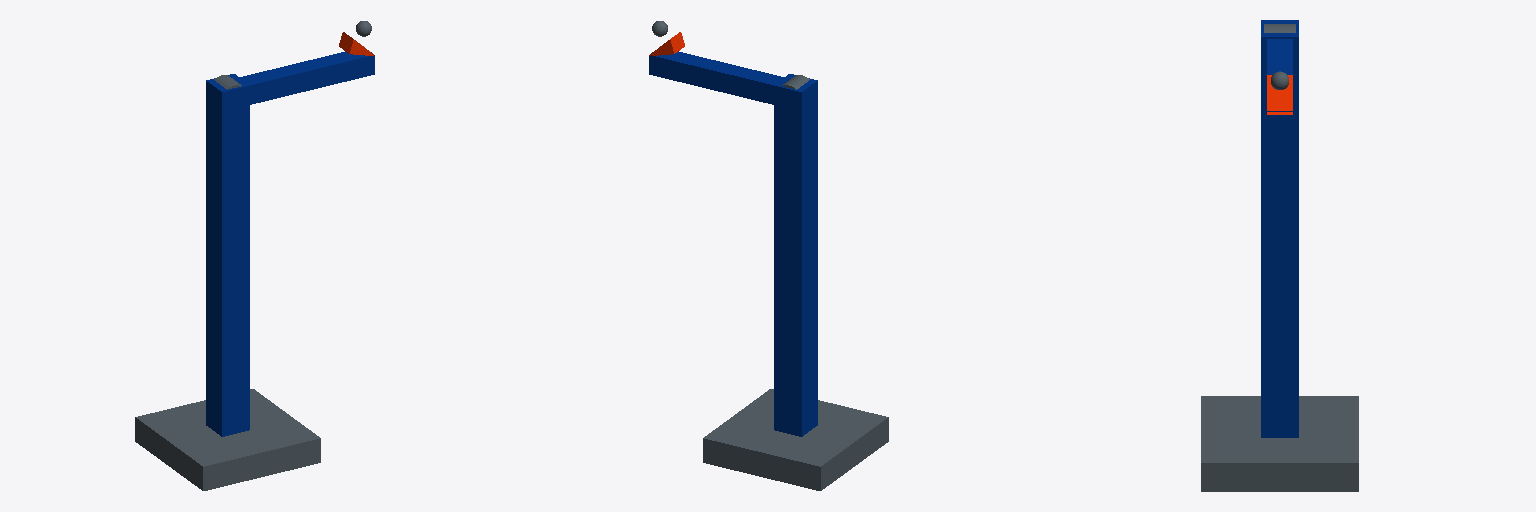
URDF robot description (lk_lift):
<?xml version="1.0"?>
<!--
  LK Lift Mast: deterministic URDF fixture for the importer toolchain.
  Exercises a prismatic joint, a revolute joint, a fixed joint that must be
  folded into its parent, primitive geometry, and a binary STL mesh.
-->
<robot name="lk_lift">
  <material name="lift-gray">
    <color rgba="0.36 0.4 0.43 1"/>
  </material>
  <material name="lift-blue">
    <color rgba="0.025 0.25 0.58 1"/>
  </material>
  <material name="lift-orange">
    <color rgba="0.94 0.24 0.035 1"/>
  </material>

  <link name="base_link">
    <visual>
      <origin xyz="0 0 0.05"/>
      <geometry>
        <box size="0.5 0.5 0.1"/>
      </geometry>
      <material name="lift-gray"/>
    </visual>
  </link>

  <link name="mast">
    <visual>
      <origin xyz="0 0 0.7"/>
      <geometry>
        <box size="0.12 0.12 1.4"/>
      </geometry>
      <material name="lift-blue"/>
    </visual>
  </link>

  <link name="boom">
    <visual>
      <origin xyz="0.3 0 0"/>
      <geometry>
        <box size="0.6 0.08 0.08"/>
      </geometry>
      <material name="lift-blue"/>
    </visual>
    <visual>
      <origin xyz="0 0 0" rpy="1.5707963267948966 0 0"/>
      <geometry>
        <cylinder radius="0.06" length="0.1"/>
      </geometry>
      <material name="lift-gray"/>
    </visual>
  </link>

  <link name="sensor">
    <visual>
      <origin xyz="-0.06 -0.04 0"/>
      <geometry>
        <mesh filename="bracket.stl"/>
      </geometry>
      <material name="lift-orange"/>
    </visual>
    <visual>
      <origin xyz="0 0 0.09"/>
      <geometry>
        <sphere radius="0.03"/>
      </geometry>
      <material name="lift-gray"/>
    </visual>
  </link>

  <joint name="lift_z" type="prismatic">
    <parent link="base_link"/>
    <child link="mast"/>
    <origin xyz="0 0 0.1"/>
    <axis xyz="0 0 1"/>
    <limit lower="0" upper="1.2" effort="100" velocity="0.5"/>
  </joint>

  <joint name="boom_yaw" type="revolute">
    <parent link="mast"/>
    <child link="boom"/>
    <origin xyz="0 0 1.35"/>
    <axis xyz="0 0 1"/>
    <limit lower="-1.7" upper="1.7" effort="60" velocity="1.5"/>
  </joint>

  <joint name="sensor_mount" type="fixed">
    <parent link="boom"/>
    <child link="sensor"/>
    <origin xyz="0.55 0 0.05" rpy="0 0.3 0"/>
  </joint>
</robot>

--- What the picture shows (computed from the rendered views, not written in the file) ---
Views: 3 orthographic renders of the robot side by side, from view 1: azimuth 30°, elevation 25°; view 2: azimuth 150°, elevation 25°; view 3: azimuth 270°, elevation 25°.
Model lk_lift with 4 links and 3 joints (1 revolute, 1 prismatic, 1 fixed), rooted at base_link, posed all joints at 0.
Links seen in each view (by area): view 1: mast, base_link, boom, sensor; view 2: mast, base_link, boom, sensor; view 3: base_link, mast, boom, sensor.
Boxes of the visible links, <box> form: mast: <box>206,74,249,436</box>; base_link: <box>135,389,320,490</box>; boom: <box>214,51,374,104</box>; sensor: <box>339,21,373,55</box>; mast: <box>774,74,817,436</box>; base_link: <box>703,389,888,490</box>; boom: <box>649,51,809,104</box>; sensor: <box>649,21,684,55</box>; base_link: <box>1201,396,1358,491</box>; mast: <box>1261,20,1298,437</box>; boom: <box>1264,24,1295,133</box>; sensor: <box>1267,71,1292,114</box>.
Size in the robot's own frame: 0.8573 by 0.5 by 1.62 metres.
1 mesh visuals loaded from 1 distinct referenced files (1 binary STL).
